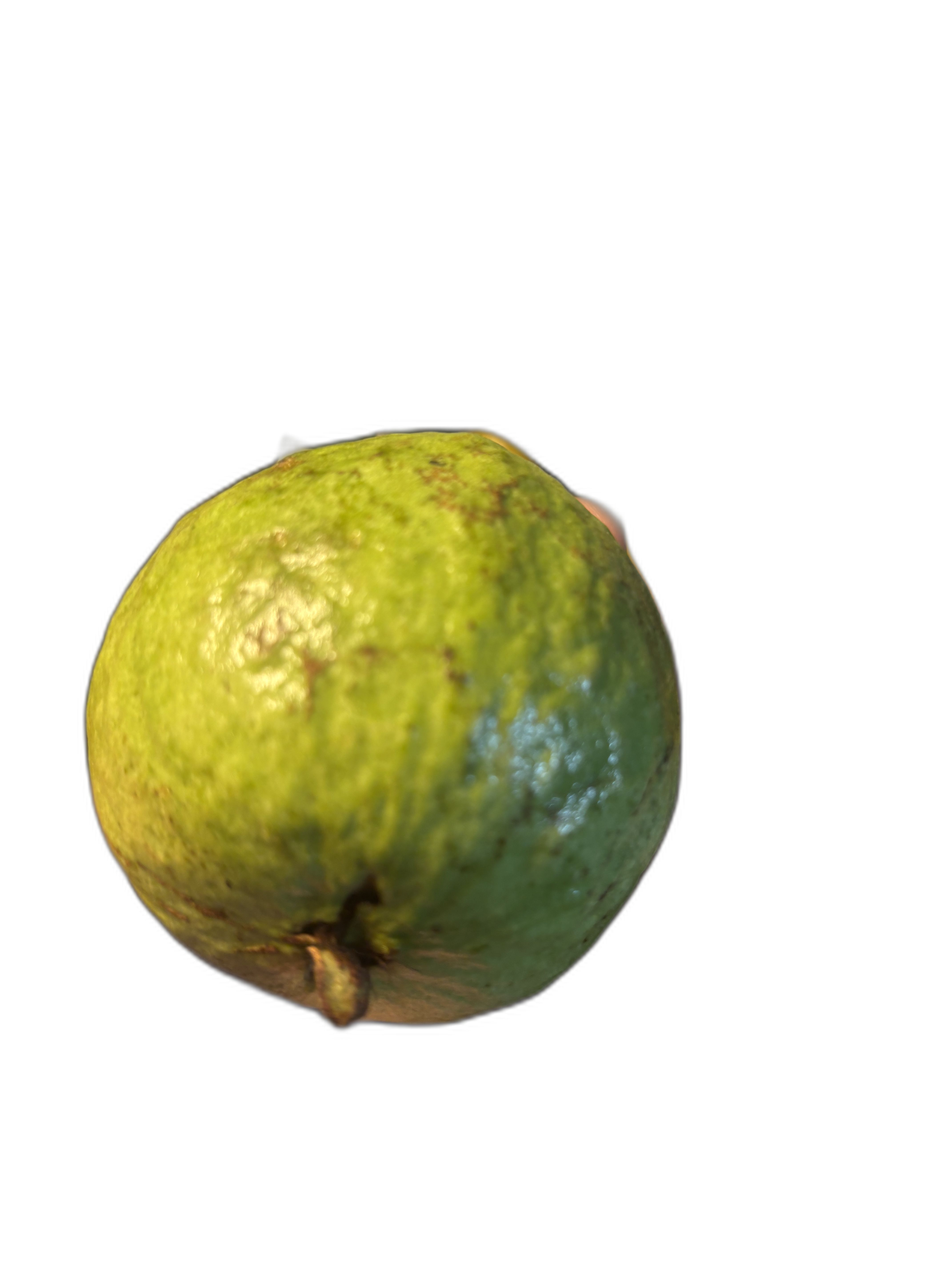guava: (240, 214, 867, 1036)
